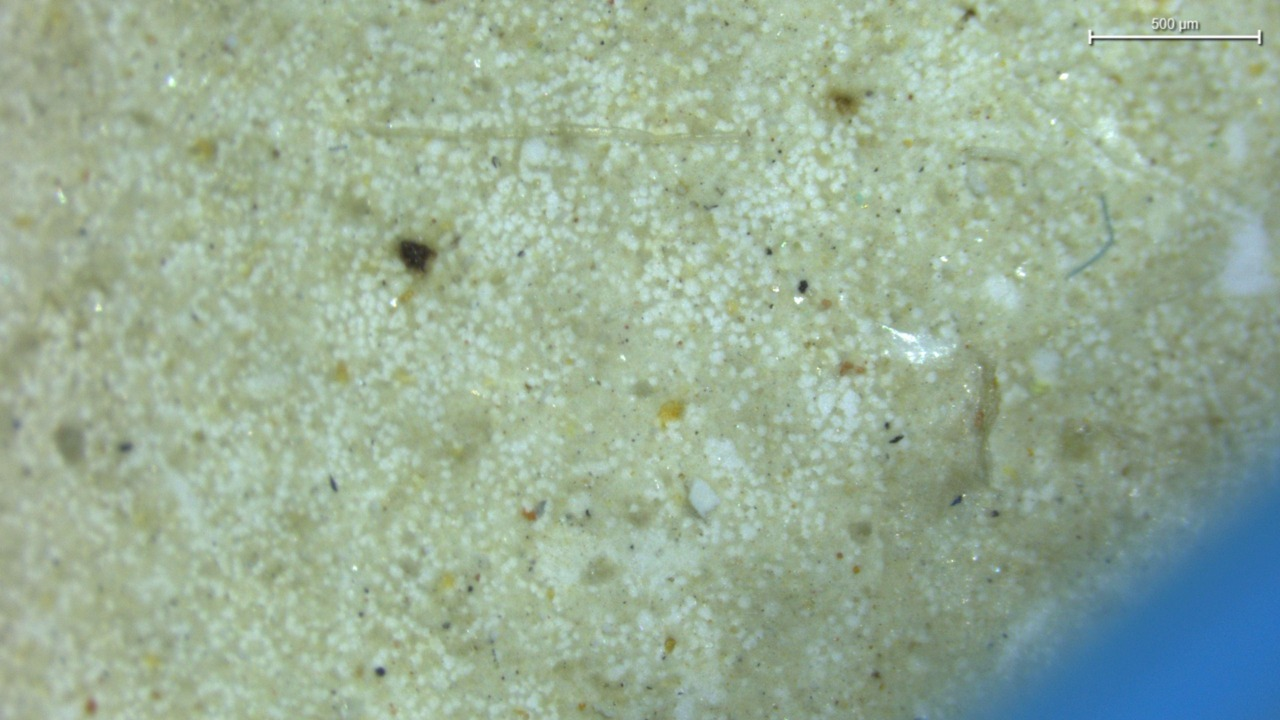microplastic_fragment: (689, 478, 720, 517)
